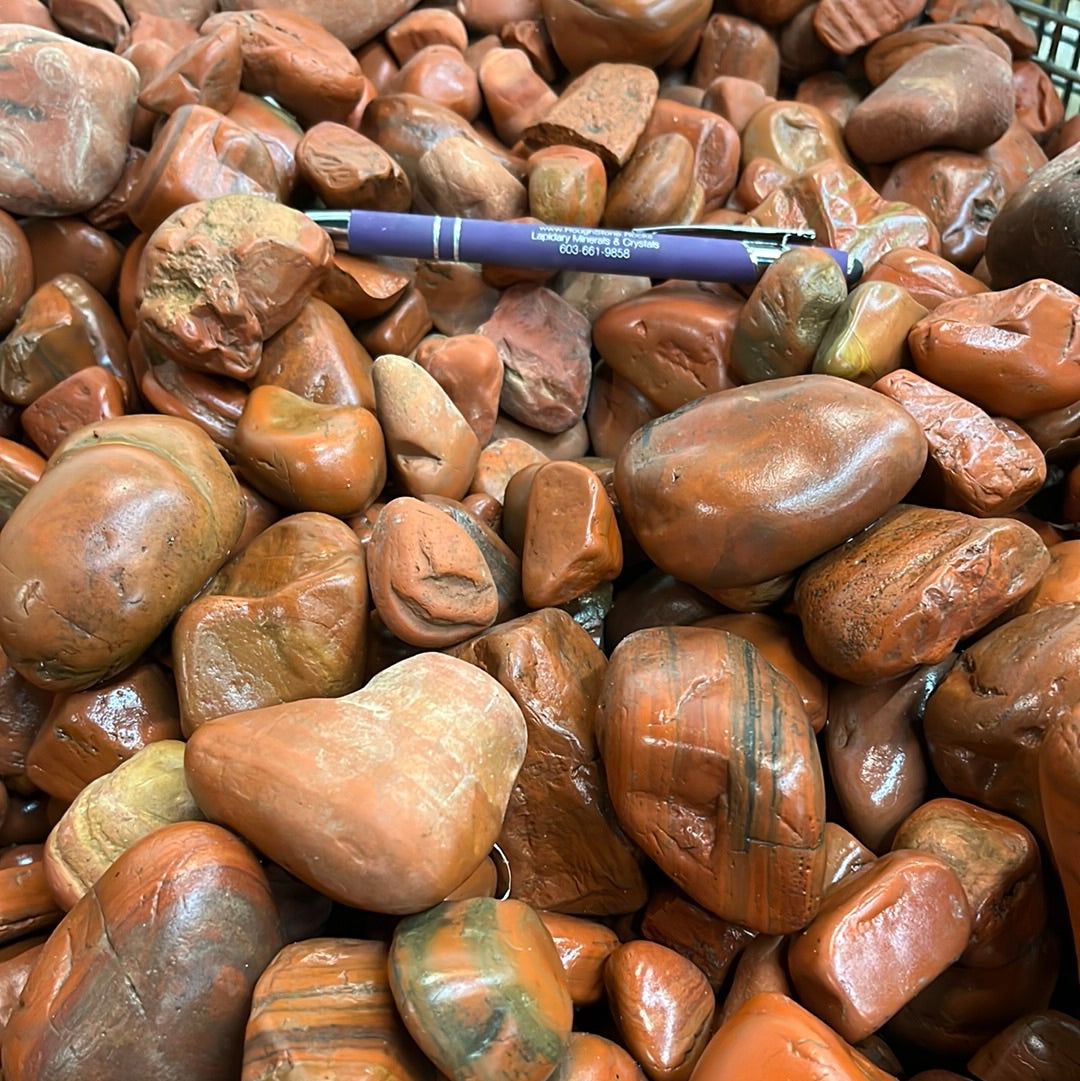Red_Jasper: (7, 273, 1067, 1080)
